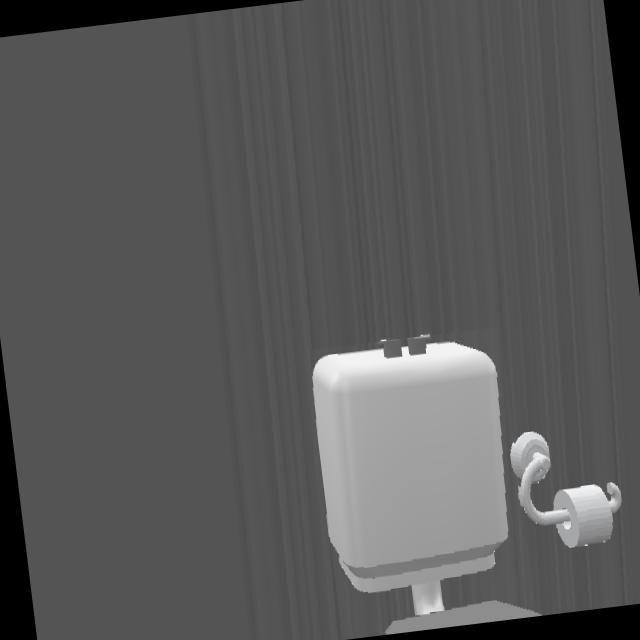toilet: (314, 335, 534, 632)
